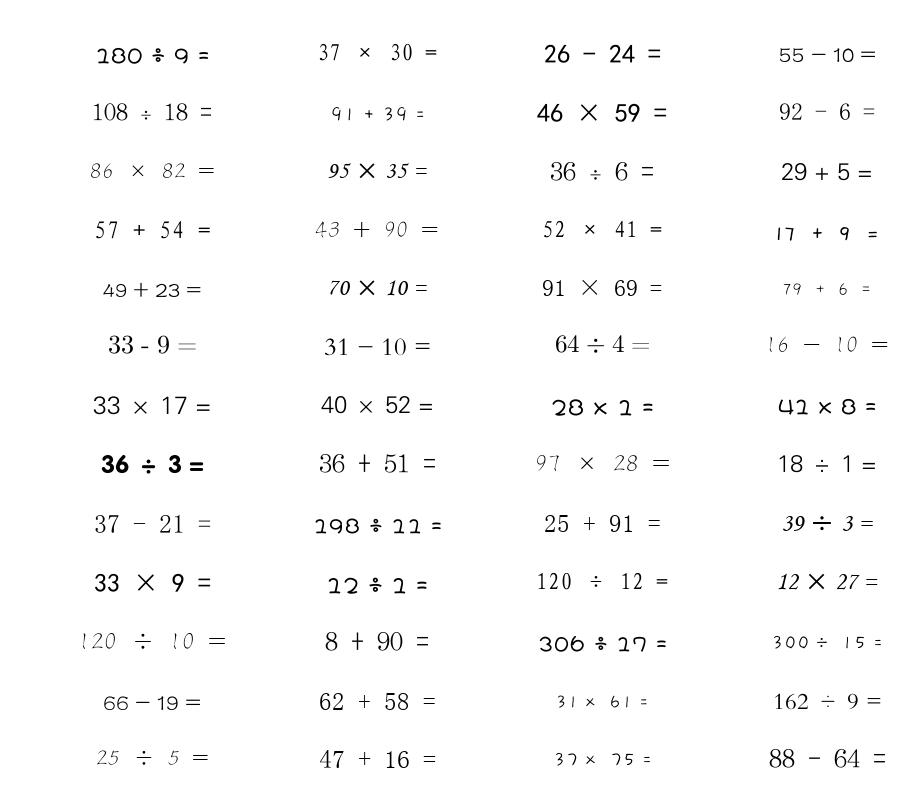MQ: (78, 633, 226, 650), (537, 103, 667, 122), (536, 572, 668, 590), (769, 748, 886, 768), (535, 455, 670, 472), (93, 396, 211, 415), (544, 44, 661, 63), (319, 454, 436, 473), (94, 514, 211, 533), (94, 573, 211, 592), (538, 635, 667, 652), (317, 43, 437, 61), (92, 103, 212, 121), (542, 220, 662, 238), (315, 221, 439, 238), (765, 336, 889, 353), (94, 221, 211, 239), (319, 750, 436, 768), (325, 631, 429, 651), (313, 518, 442, 534), (101, 454, 204, 474), (542, 279, 662, 296), (321, 396, 434, 414), (544, 515, 661, 532), (319, 693, 436, 710), (550, 162, 654, 181), (95, 47, 210, 64), (324, 338, 431, 356), (90, 163, 215, 178), (773, 693, 882, 710), (777, 455, 877, 473), (551, 399, 654, 416), (326, 577, 428, 594), (776, 573, 878, 590), (555, 335, 650, 353), (96, 750, 209, 765), (108, 335, 197, 354), (778, 398, 877, 415), (771, 635, 883, 650), (781, 163, 873, 181), (779, 103, 875, 120), (327, 163, 427, 179), (327, 280, 427, 296), (103, 282, 201, 298), (330, 106, 425, 122), (553, 752, 652, 767), (775, 227, 880, 241), (781, 516, 873, 531), (103, 696, 201, 710), (779, 48, 876, 62), (555, 695, 649, 709), (782, 283, 872, 296)
